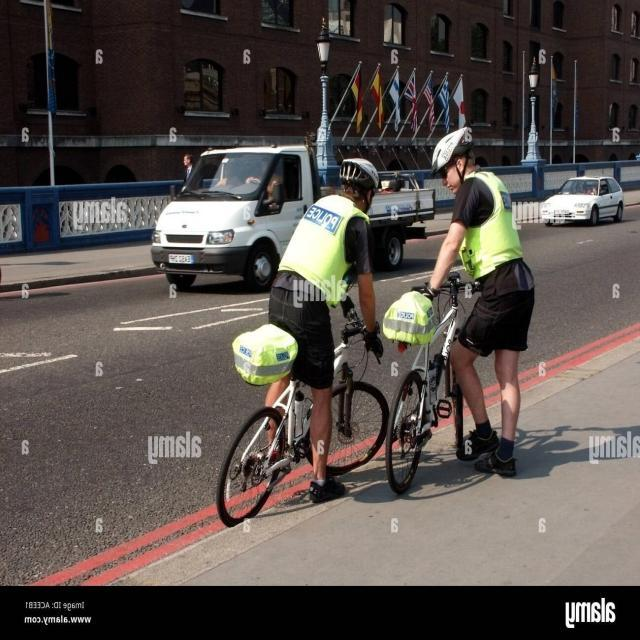reflective_jacket: (274, 195, 368, 308), (456, 173, 526, 283)
safety_helmet: (329, 147, 399, 197), (425, 123, 477, 177)
